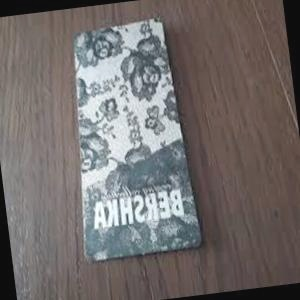bershka: (146, 95, 237, 285)
